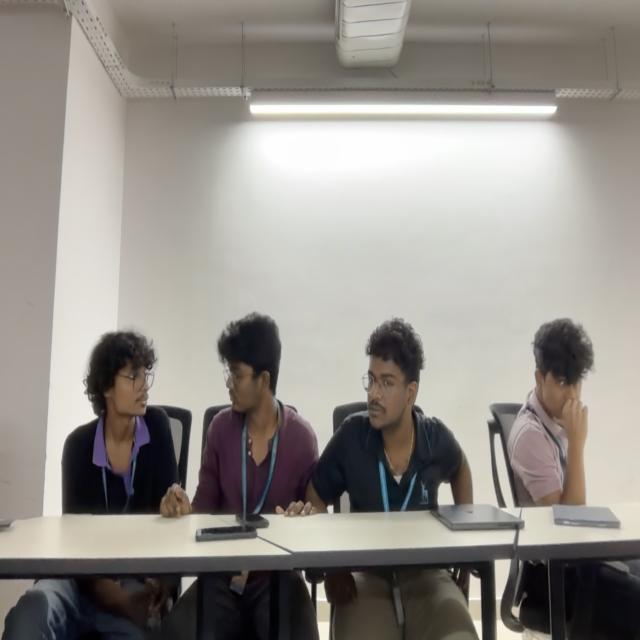Isolated: (506, 318, 602, 507)
socializing: (64, 316, 472, 514)
